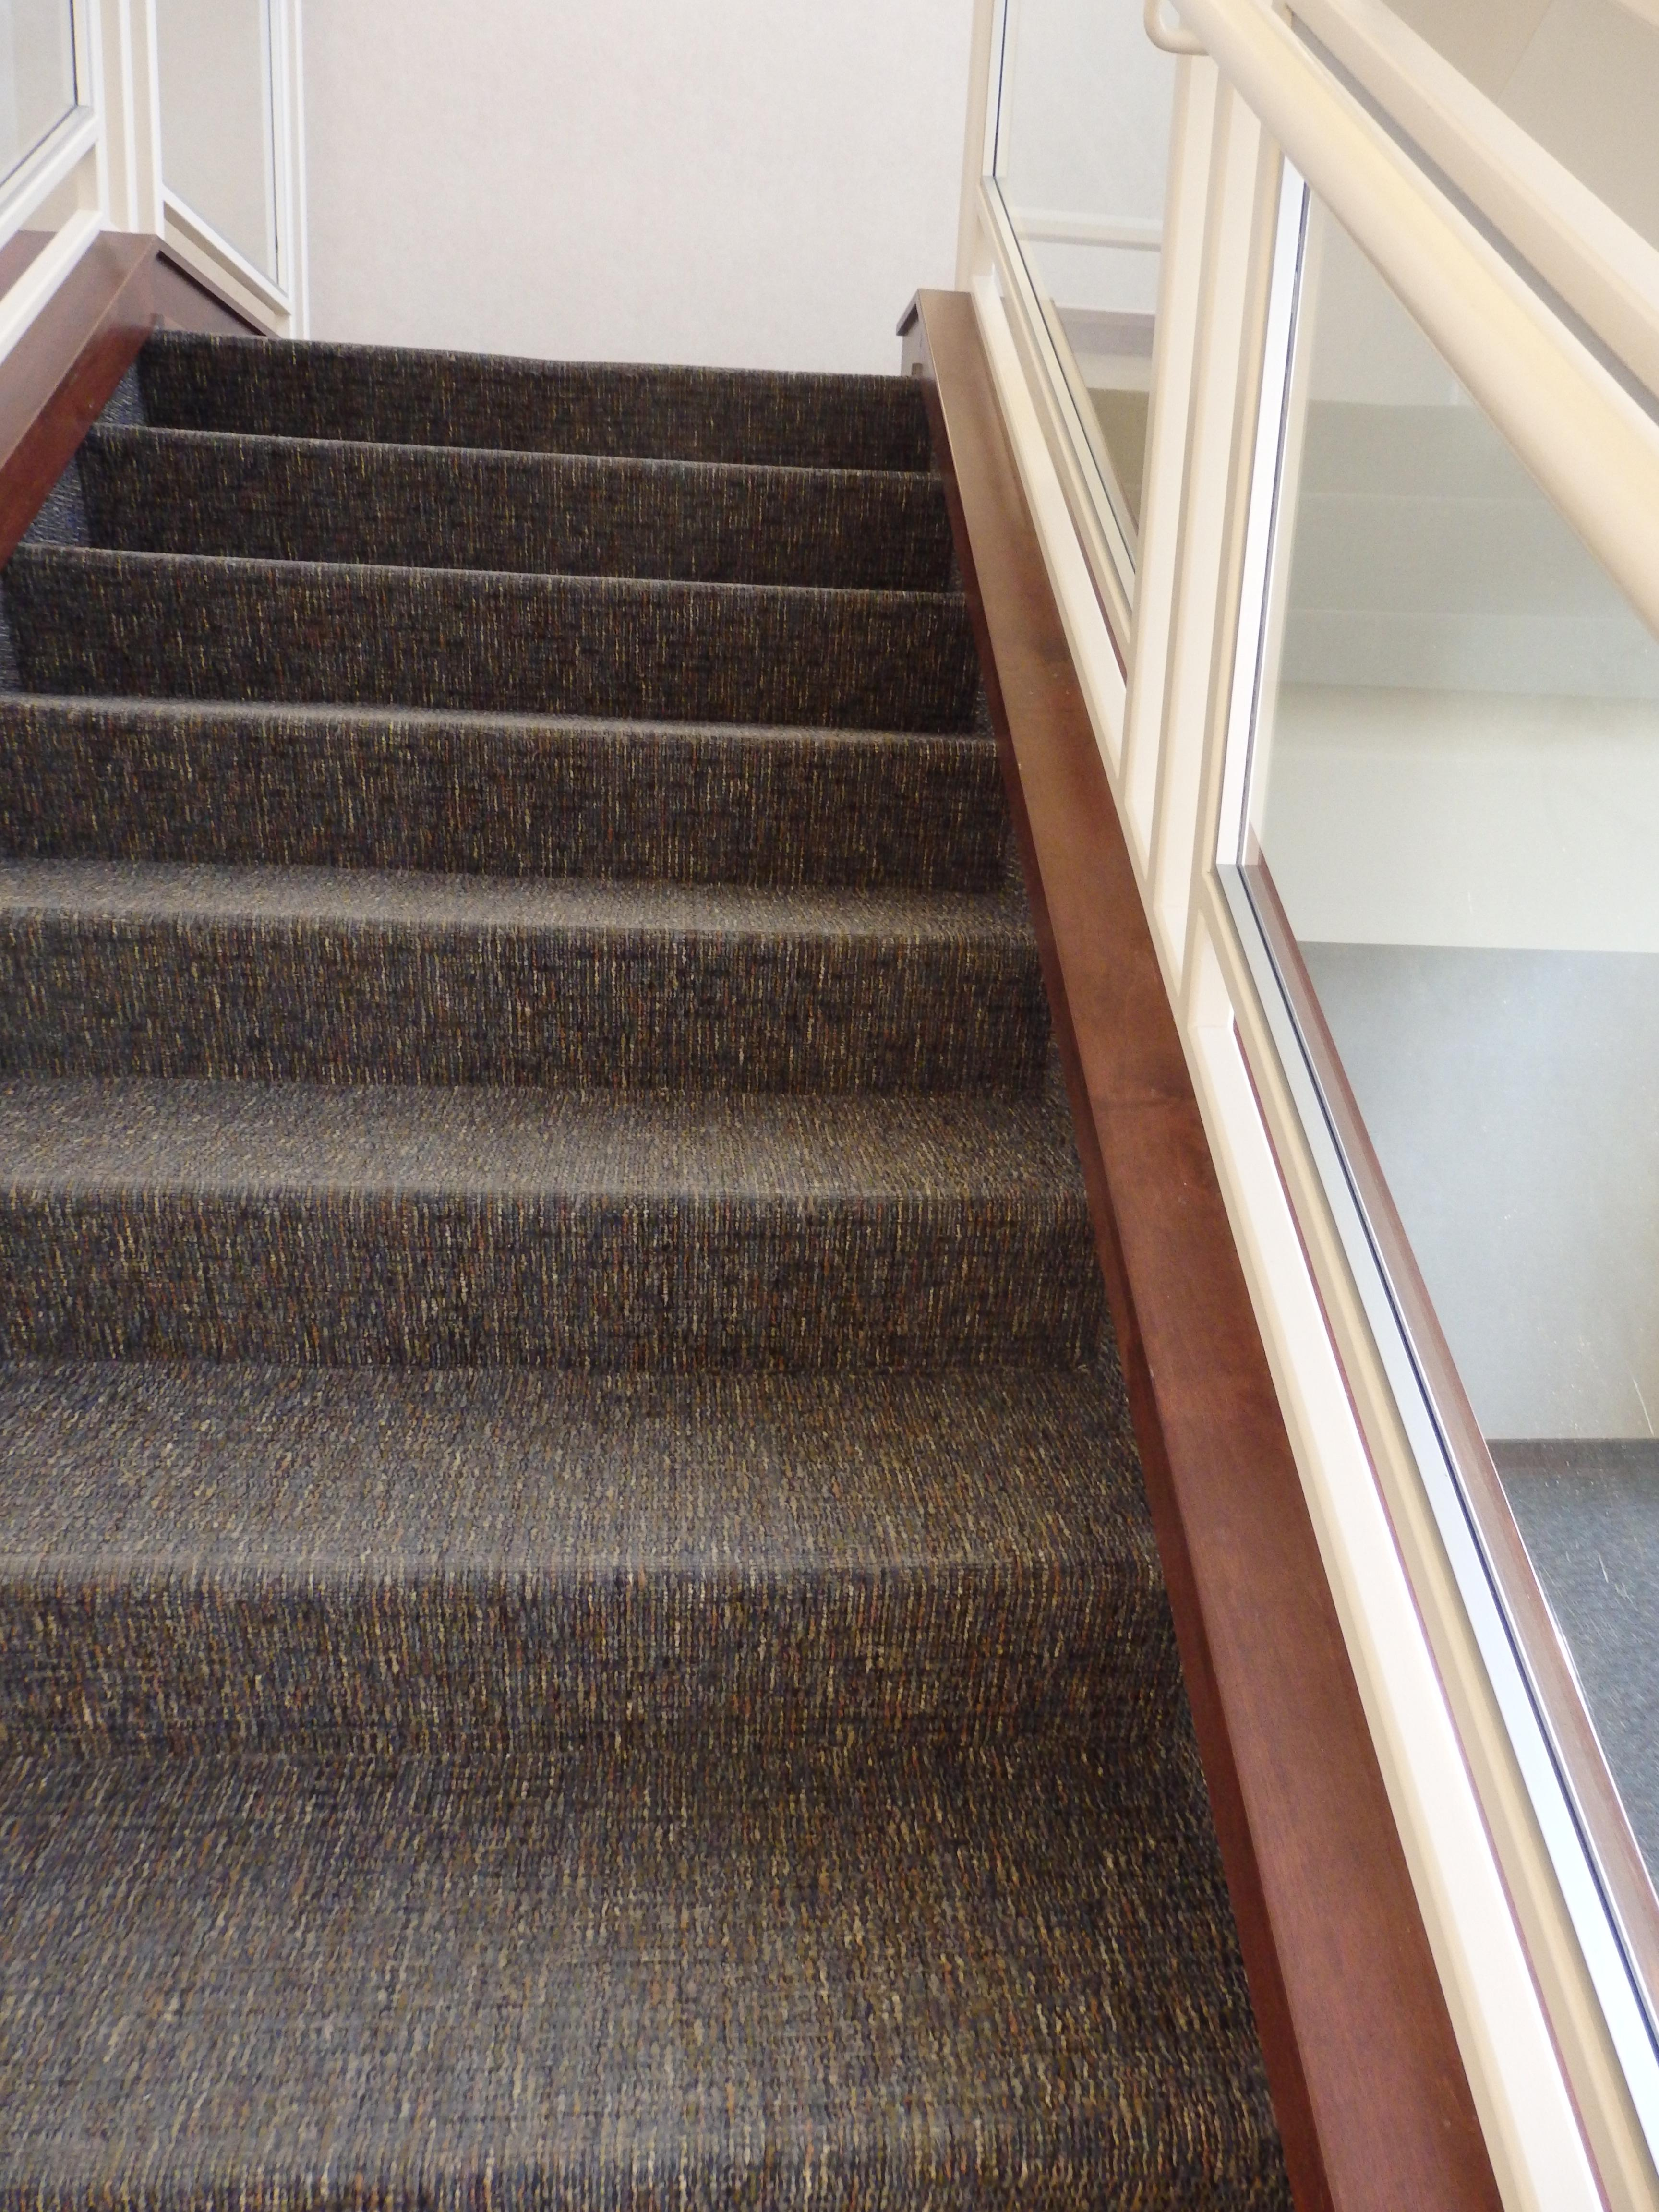stairs_up: (3, 298, 1148, 1747)
